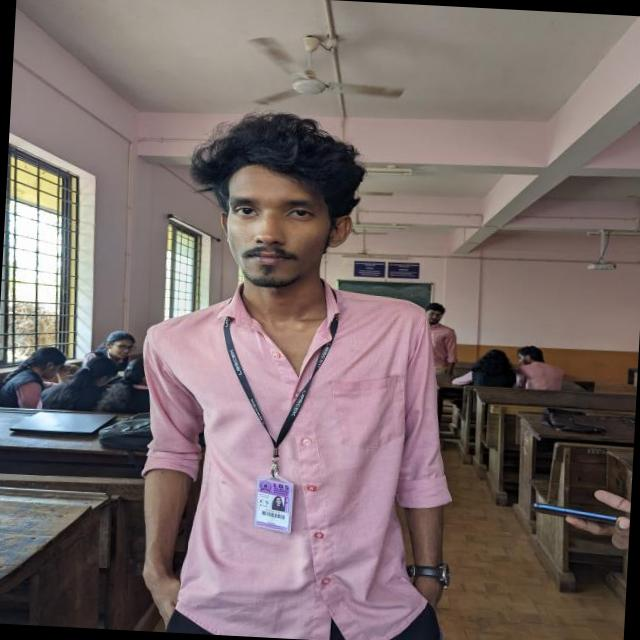id_card: (215, 309, 336, 530)
